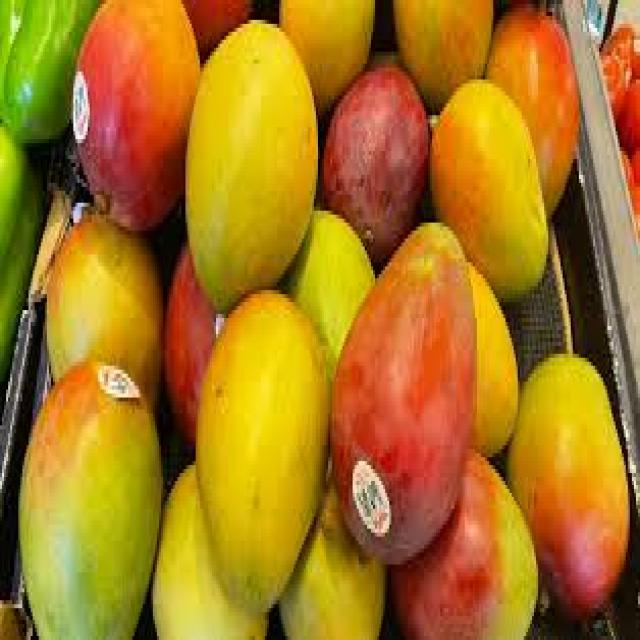mango: (330, 223, 477, 568)
